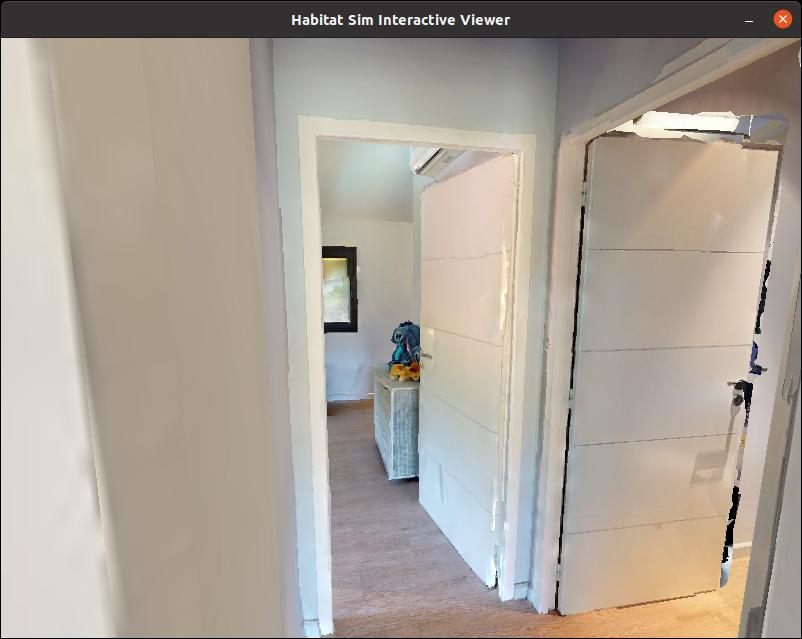door: (563, 147, 756, 590)
door-frame: (539, 51, 802, 639), (295, 117, 540, 636)
